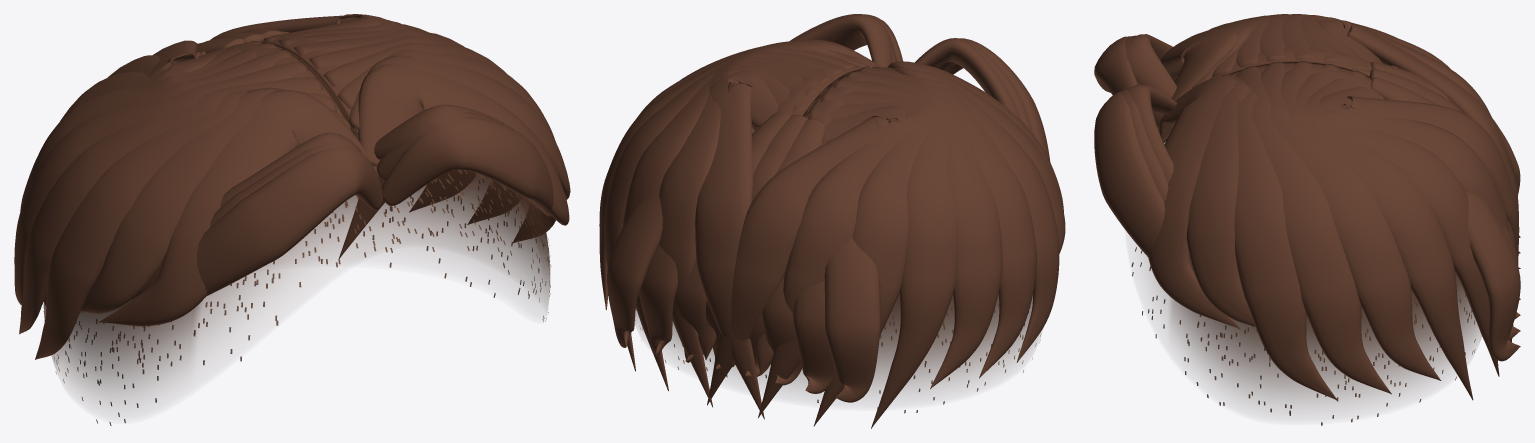
The model's file is Masculine-middle-part-hair.glb.
3 renders of one model, left to right at view 1: azimuth 30°, elevation 25°; view 2: azimuth 150°, elevation 25°; view 3: azimuth 270°, elevation 25°, orthographic. The views are drawn at different scales.
Visible parts, largest first — view 1: 226 hair / Hair / chestnut226, 226 hair / Hair / neutral coverage235, 226 hair / Hair / cut grain235; view 2: 226 hair / Hair / chestnut226, 226 hair / Hair / neutral coverage235, 226 hair / Hair / cut grain235; view 3: 226 hair / Hair / chestnut226, 226 hair / Hair / neutral coverage235, 226 hair / Hair / cut grain235.
Boxes of the visible parts, x1,y1,x2,y2 form: 226 hair / Hair / chestnut226: [14, 14, 570, 359]; 226 hair / Hair / neutral coverage235: [43, 53, 550, 405]; 226 hair / Hair / cut grain235: [42, 170, 551, 425]; 226 hair / Hair / chestnut226: [599, 14, 1065, 428]; 226 hair / Hair / neutral coverage235: [635, 74, 1041, 396]; 226 hair / Hair / cut grain235: [635, 295, 1040, 413]; 226 hair / Hair / chestnut226: [1094, 14, 1520, 400]; 226 hair / Hair / neutral coverage235: [1142, 127, 1481, 409]; 226 hair / Hair / cut grain235: [1131, 247, 1475, 425].
Bounding box in the file's own units: 1.07 × 0.6413 × 0.8834.
